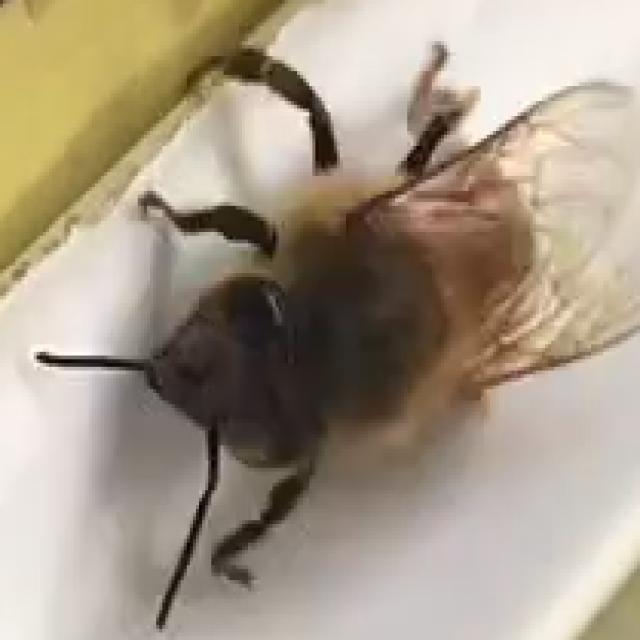honeybee: (32, 51, 610, 592)
